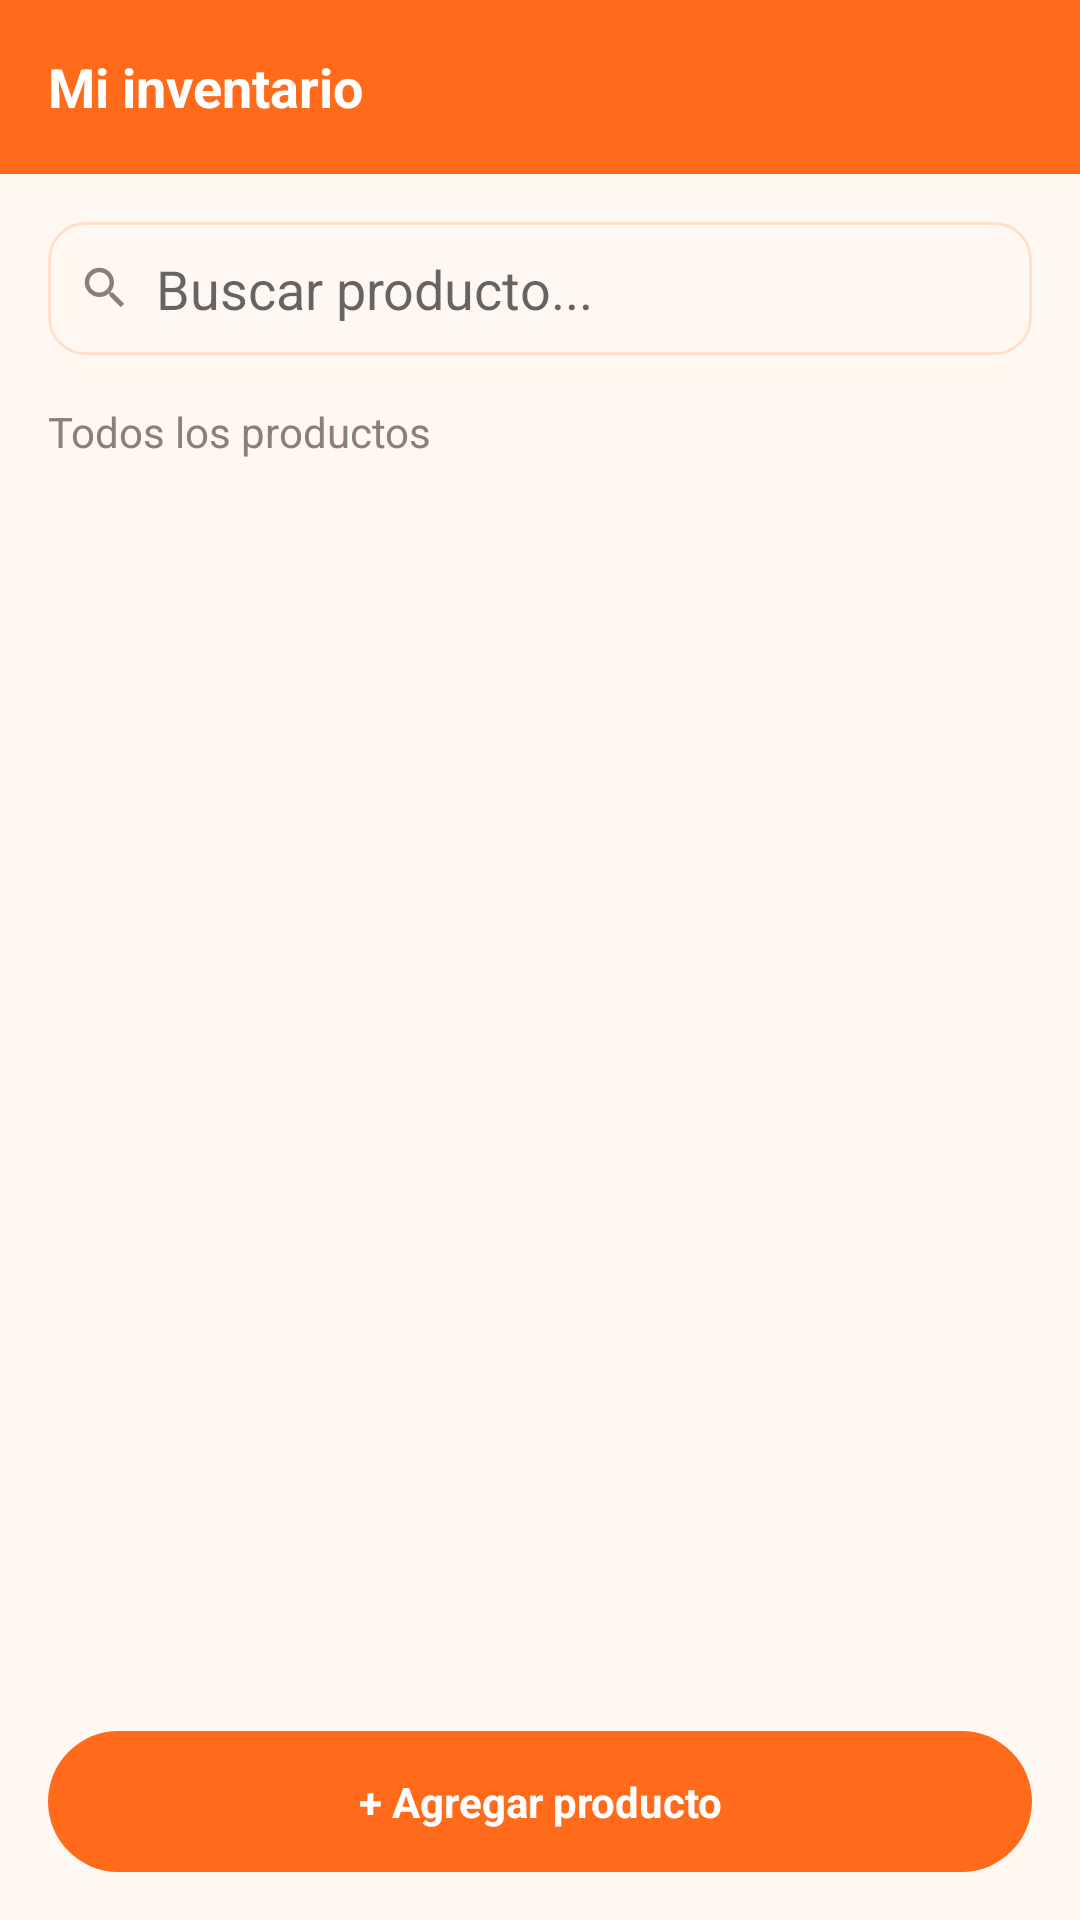

Locate icon controls on the screen. Image size 1080*1920, boxes as (x1, y1, x2, y2).
search: (84, 267, 124, 307)
